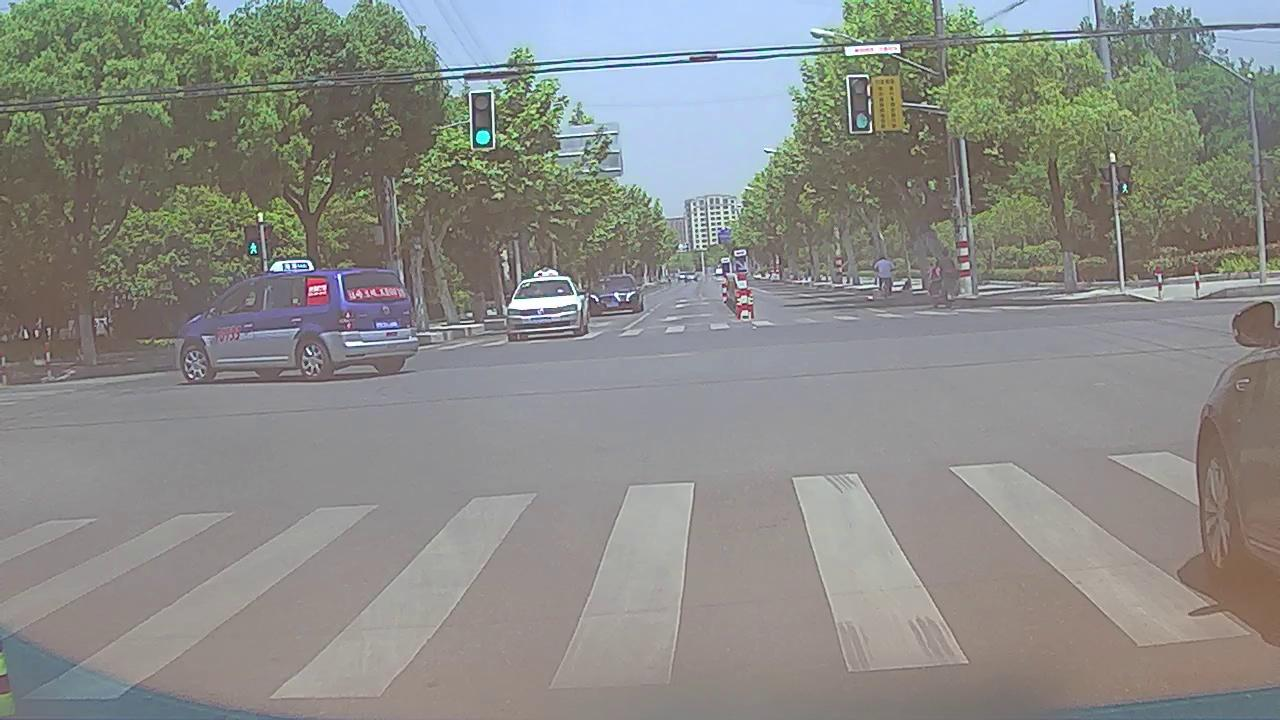traffic_light: (848, 76, 873, 133), (472, 90, 494, 149)
